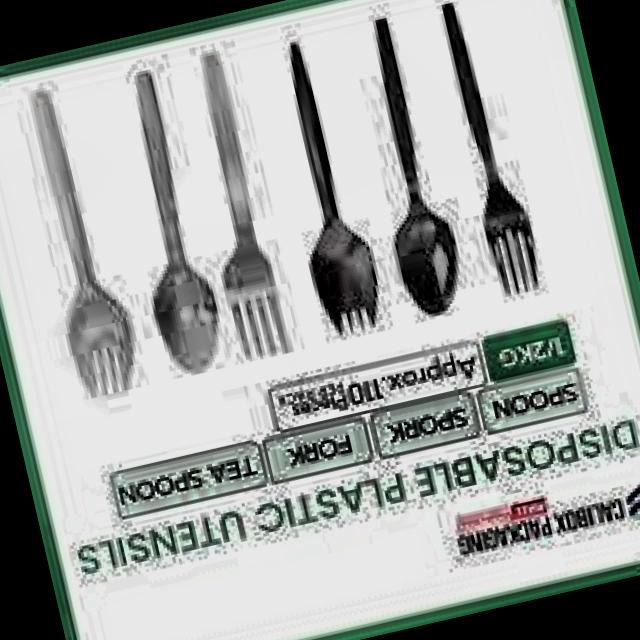plastic utensil: (38, 94, 134, 395), (444, 4, 536, 294), (290, 45, 378, 332), (207, 54, 288, 357), (139, 73, 219, 370), (378, 19, 457, 310)
